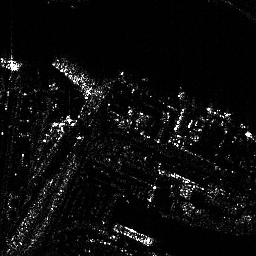ship: (112, 222, 155, 247)
